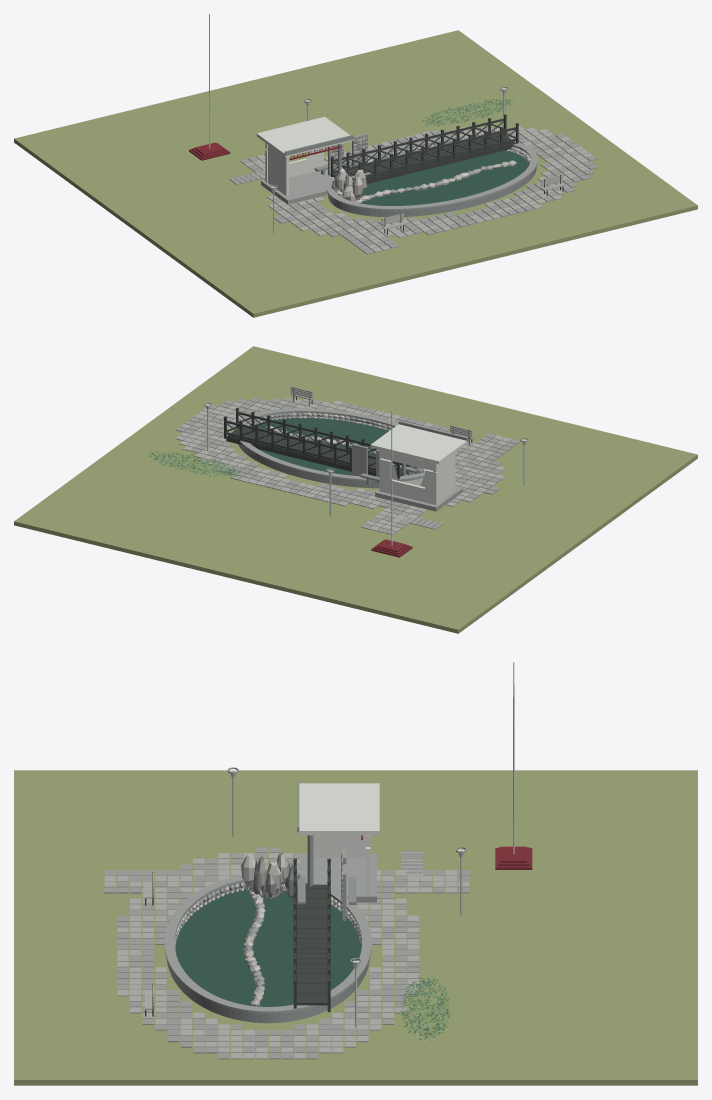
The model's file is xiyuan-structure-medium.glb.
The picture shows the model from 3 angles, top to bottom: view 1: azimuth 30°, elevation 25°; view 2: azimuth 150°, elevation 25°; view 3: azimuth 270°, elevation 25°; orthographic projection. The views are drawn at different scales.
Parts seen in each view (by area): view 1: ground, flag lawn, stone paving slabs, stone paving slabs.001, pond water, pavilion broad flat roof, pool granite coping, pool masonry, bridge horizontal rails, bridge planks, pavilion stone platform, bridge X bracing (+5 smaller); view 2: ground, flag lawn, stone paving slabs.001, stone paving slabs, pond water, pavilion broad flat roof, pool granite coping, bridge horizontal rails, bridge planks, pool masonry, bridge posts, bridge X bracing (+8 smaller); view 3: ground, flag lawn, stone paving slabs, stone paving slabs.001, pond water, pavilion broad flat roof, pool granite coping, bridge planks, pavilion stone platform, pool masonry, pavilion left return, flagpole red granite steps (+2 smaller).
Boxes of the visible parts, x1=… form: ground: x1=14, y1=30, x2=697, y2=317; flag lawn: x1=108, y1=116, x2=307, y2=189; stone paving slabs: x1=239, y1=126, x2=597, y2=254; stone paving slabs.001: x1=244, y1=126, x2=592, y2=252; pond water: x1=359, y1=149, x2=528, y2=205; pavilion broad flat roof: x1=256, y1=116, x2=353, y2=157; pool granite coping: x1=326, y1=137, x2=537, y2=210; pool masonry: x1=328, y1=142, x2=536, y2=217; bridge horizontal rails: x1=333, y1=118, x2=515, y2=180; bridge planks: x1=333, y1=133, x2=514, y2=179; pavilion stone platform: x1=261, y1=169, x2=330, y2=204; bridge X bracing: x1=333, y1=120, x2=516, y2=175; ground: x1=14, y1=346, x2=697, y2=633; flag lawn: x1=290, y1=513, x2=493, y2=586; stone paving slabs.001: x1=175, y1=399, x2=512, y2=531; stone paving slabs: x1=176, y1=397, x2=520, y2=534; pond water: x1=250, y1=418, x2=406, y2=475; pavilion broad flat roof: x1=370, y1=424, x2=467, y2=464; pool granite coping: x1=235, y1=408, x2=424, y2=481; bridge horizontal rails: x1=226, y1=412, x2=408, y2=474; bridge planks: x1=228, y1=427, x2=406, y2=476; pool masonry: x1=238, y1=412, x2=423, y2=488; bridge posts: x1=224, y1=410, x2=399, y2=480; bridge X bracing: x1=226, y1=413, x2=396, y2=472; ground: x1=14, y1=770, x2=697, y2=1085; flag lawn: x1=403, y1=795, x2=625, y2=925; stone paving slabs: x1=104, y1=847, x2=469, y2=1059; stone paving slabs.001: x1=104, y1=853, x2=469, y2=1059; pond water: x1=175, y1=888, x2=361, y2=1006; pavilion broad flat roof: x1=297, y1=783, x2=379, y2=835; pool granite coping: x1=164, y1=873, x2=371, y2=1013; bridge planks: x1=296, y1=884, x2=327, y2=1005; pavilion stone platform: x1=300, y1=853, x2=376, y2=902; pool masonry: x1=166, y1=880, x2=369, y2=1023; pavilion left return: x1=314, y1=835, x2=365, y2=857; flagpole red granite steps: x1=495, y1=846, x2=532, y2=869.
Bounding box in the file's own units: 35.1 × 10.94 × 32.76.
